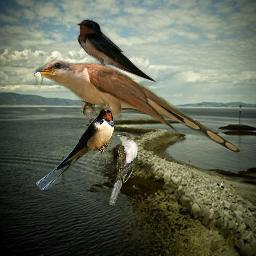Cuckoo: (29, 59, 242, 153), (109, 132, 138, 205)
Swallow: (36, 108, 114, 190), (75, 18, 157, 83)
